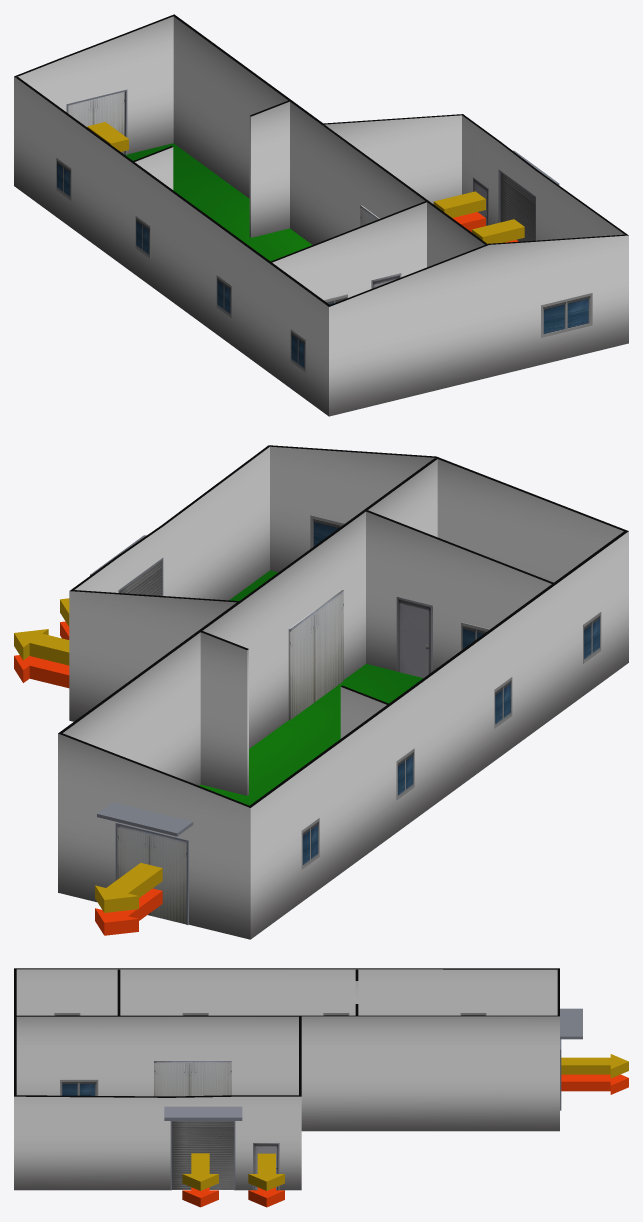
File: soubrain_T1-9-1F.glb
3 renders of one model, top to bottom at view 1: azimuth 30°, elevation 25°; view 2: azimuth 150°, elevation 25°; view 3: azimuth 270°, elevation 25°, orthographic. The views are drawn at different scales.
Parts seen in each view (by area): view 1: Box004, Line005, T1-9-1F, Box007, arrow_Y_2_T1-9-1F, arrow_Y_3_T1-9-1F, Line008, arrow_Y_1_T1-9-1F; view 2: Box004, T1-9-1F, Line005, Box007, arrow_Y_1_T1-9-1F, arrow_R_1_T1-9-1F, arrow_Y_2_T1-9-1F, arrow_R_2_T1-9-1F, Line008; view 3: Box004, T1-9-1F, Box007, arrow_Y_1_T1-9-1F, arrow_R_1_T1-9-1F, arrow_Y_3_T1-9-1F, arrow_Y_2_T1-9-1F, arrow_R_3_T1-9-1F, arrow_R_2_T1-9-1F, Line008.
Boxes of the visible parts, <box> form: Box004: <box>14,14,628,416</box>; Line005: <box>125,143,312,261</box>; T1-9-1F: <box>56,158,592,372</box>; Box007: <box>68,91,535,241</box>; arrow_Y_2_T1-9-1F: <box>433,191,485,217</box>; arrow_Y_3_T1-9-1F: <box>472,219,524,243</box>; Line008: <box>66,89,535,240</box>; arrow_Y_1_T1-9-1F: <box>87,122,128,151</box>; Box004: <box>58,445,628,939</box>; T1-9-1F: <box>288,515,601,869</box>; Line005: <box>199,570,423,805</box>; Box007: <box>117,560,186,924</box>; arrow_Y_1_T1-9-1F: <box>95,863,162,912</box>; arrow_R_1_T1-9-1F: <box>95,888,162,935</box>; arrow_Y_2_T1-9-1F: <box>14,629,69,665</box>; arrow_R_2_T1-9-1F: <box>14,655,69,688</box>; Line008: <box>115,558,188,924</box>; Box004: <box>14,968,582,1190</box>; T1-9-1F: <box>54,1013,486,1190</box>; Box007: <box>172,1121,233,1189</box>; arrow_Y_1_T1-9-1F: <box>561,1054,628,1078</box>; arrow_R_1_T1-9-1F: <box>561,1074,628,1094</box>; arrow_Y_3_T1-9-1F: <box>182,1153,218,1190</box>; arrow_Y_2_T1-9-1F: <box>248,1153,284,1190</box>; arrow_R_3_T1-9-1F: <box>182,1187,218,1207</box>; arrow_R_2_T1-9-1F: <box>248,1187,284,1207</box>; Line008: <box>170,1039,561,1190</box>.
Bounding box in the file's own units: 14.17 × 4.9 × 23.77.
Materials: 10 (7 with a texture image).
